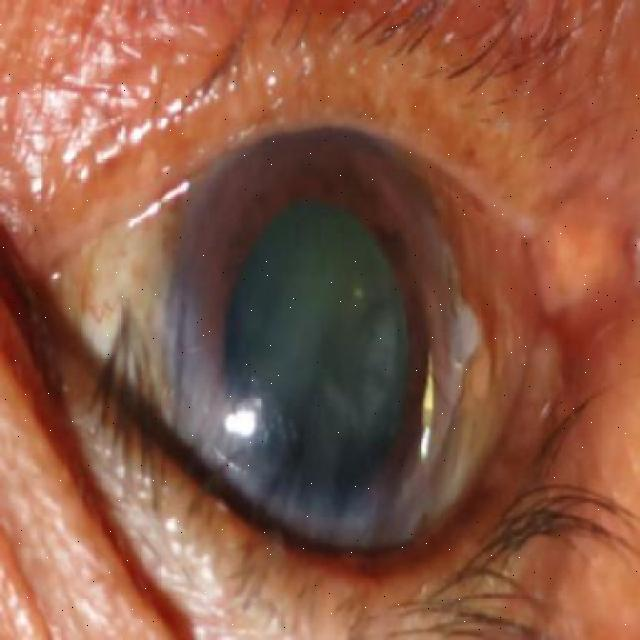Cataract: (160, 122, 462, 578)
